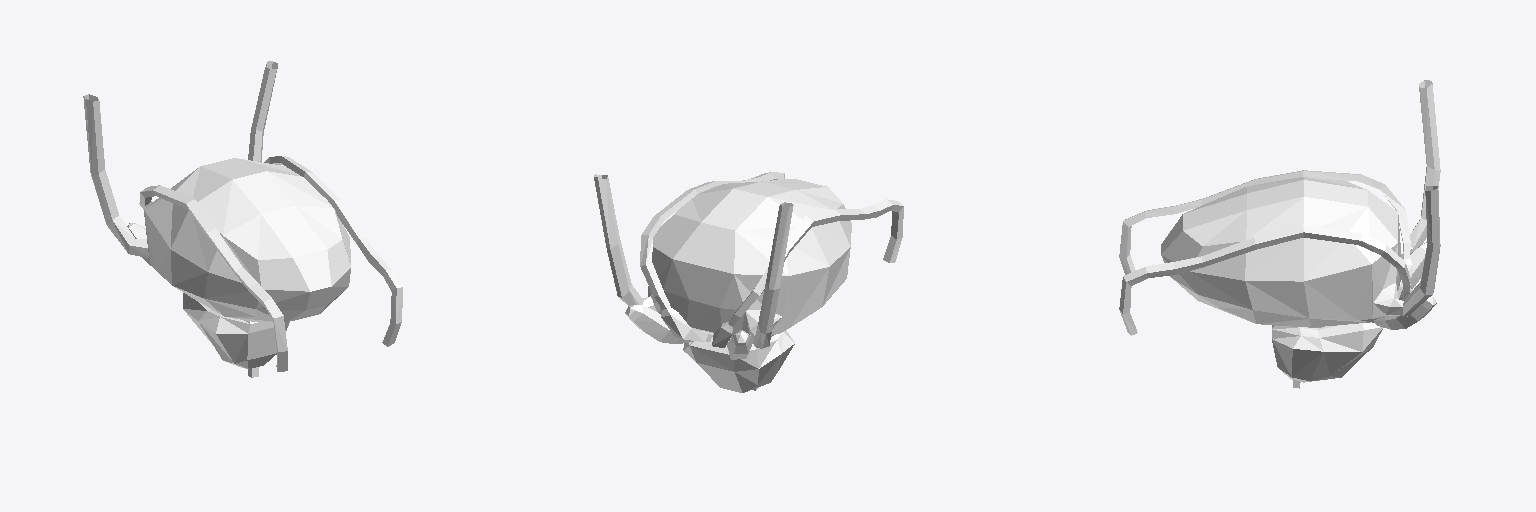
File: Urogenital_Male.obj
3 renders of one model, left to right at view 1: azimuth 30°, elevation 25°; view 2: azimuth 150°, elevation 25°; view 3: azimuth 270°, elevation 25°, orthographic.
Parts seen in each view (by area): view 1: Urogenital_Male.obj; view 2: Urogenital_Male.obj; view 3: Urogenital_Male.obj.
Boxes of the visible parts, box(x1,y1,x2,y2) form: Urogenital_Male.obj: box(83, 61, 402, 377); Urogenital_Male.obj: box(594, 172, 903, 392); Urogenital_Male.obj: box(1119, 80, 1440, 388).
Size of the model in its own units: 0.0627 by 0.0784 by 0.0891.